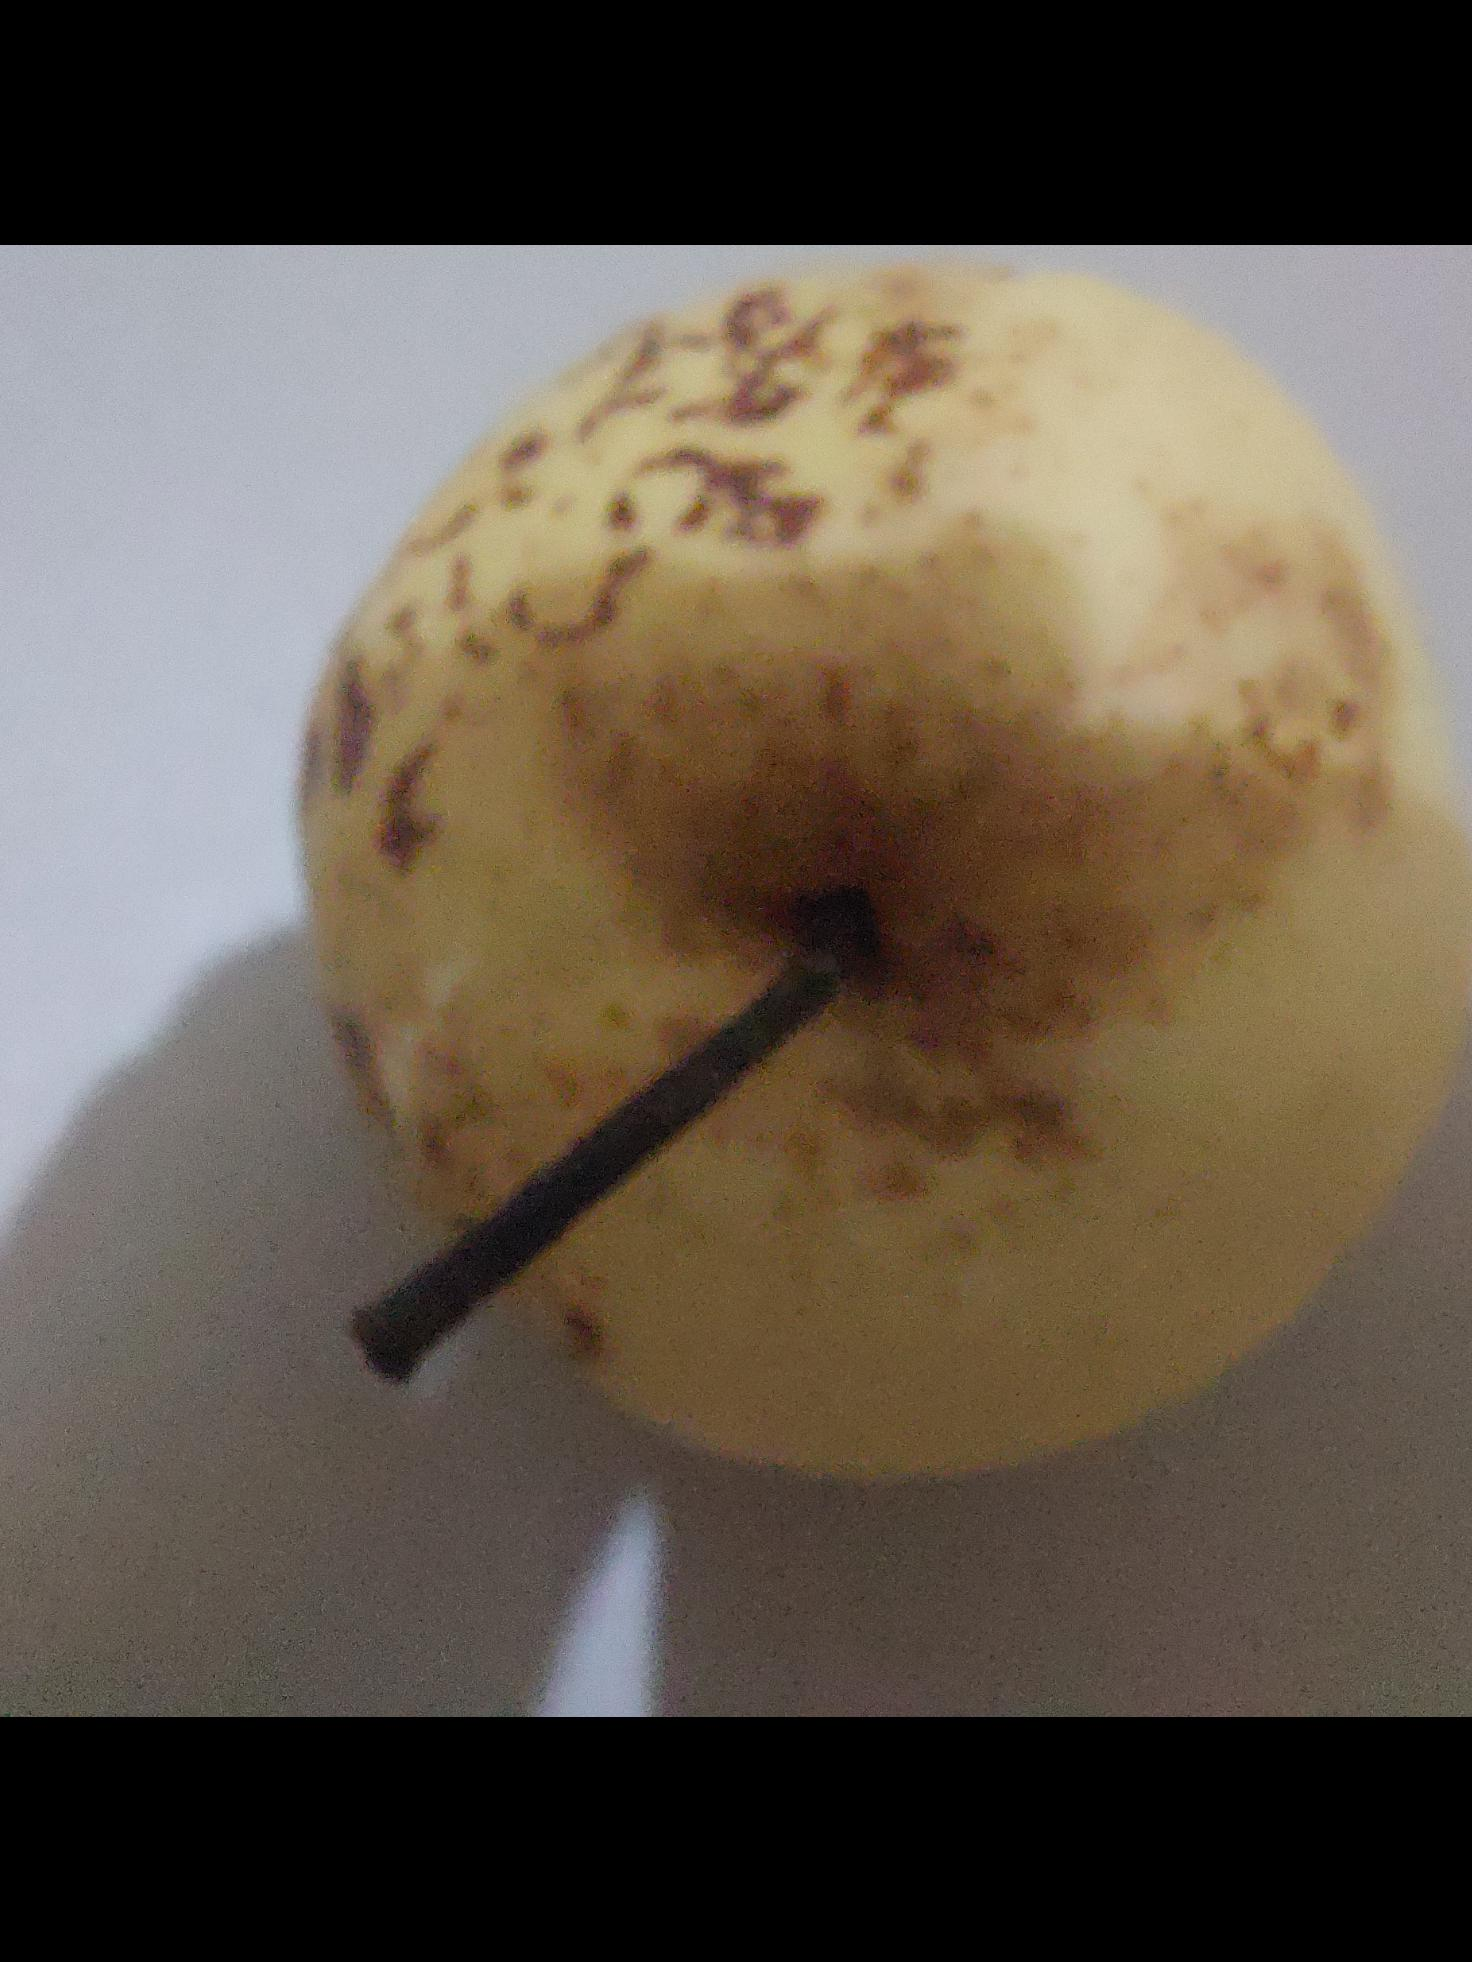Bad Pear: (266, 266, 1472, 1524)
